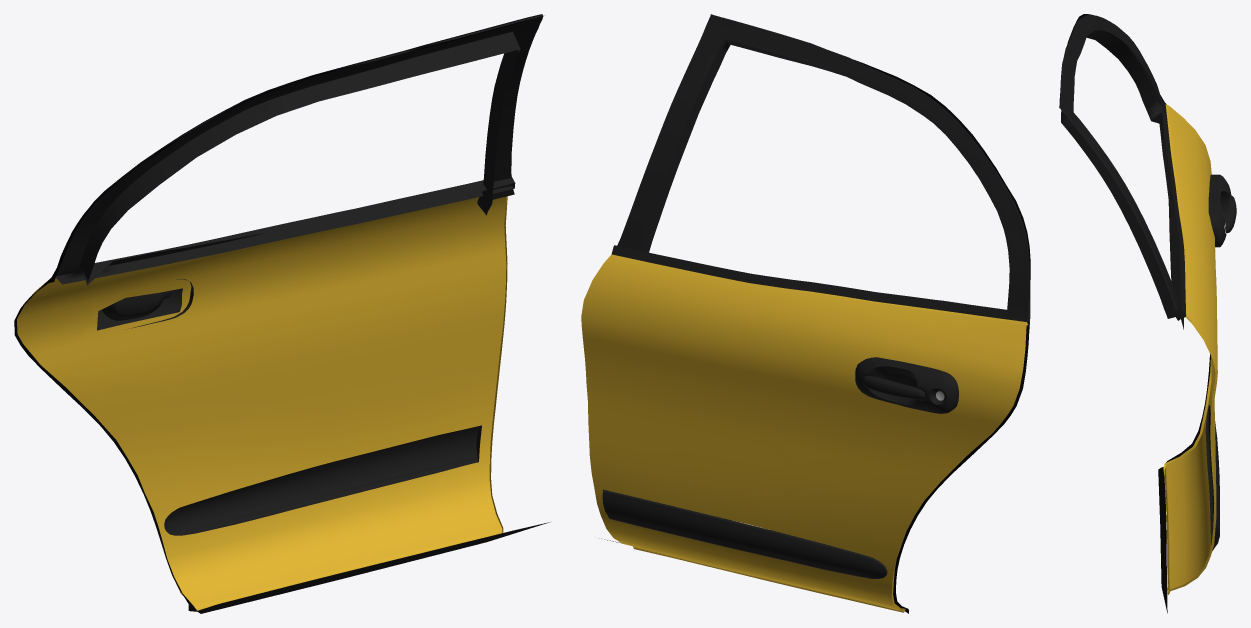
3 views of the same model, side by side, from view 1: azimuth 30°, elevation 25°; view 2: azimuth 150°, elevation 25°; view 3: azimuth 270°, elevation 25° (orthographic). The views are drawn at different scales.
Visible parts, largest first — view 1: P353_20_301B_L_DaS_P353_20_301B_L, P353_20_301B_L_P353_20_301B_L_2_D, P353_20_301B_L_P353_20_301B_L_4_D, P353_20_301B_L_DaS_P353_20_301B_L_E; view 2: P353_20_301B_L_DaS_P353_20_301B_L, P353_20_301B_L_P353_20_301B_L_2_D, P353_20_301B_L_P353_20_301B_L_4_D; view 3: P353_20_301B_L_DaS_P353_20_301B_L, P353_20_301B_L_P353_20_301B_L_2_D, P353_20_301B_L_DaS_P353_20_301B_L_E, P353_20_301B_L_P353_20_301B_L_4_D.
Part boxes in pixels (x1,y1,x2,y2): P353_20_301B_L_DaS_P353_20_301B_L: [17, 196, 506, 610]; P353_20_301B_L_P353_20_301B_L_2_D: [55, 14, 543, 535]; P353_20_301B_L_P353_20_301B_L_4_D: [14, 16, 550, 613]; P353_20_301B_L_DaS_P353_20_301B_L_E: [23, 196, 507, 608]; P353_20_301B_L_DaS_P353_20_301B_L: [581, 254, 1026, 612]; P353_20_301B_L_P353_20_301B_L_2_D: [602, 15, 1029, 579]; P353_20_301B_L_P353_20_301B_L_4_D: [601, 14, 1030, 613]; P353_20_301B_L_DaS_P353_20_301B_L: [1164, 104, 1217, 589]; P353_20_301B_L_P353_20_301B_L_2_D: [1060, 15, 1236, 550]; P353_20_301B_L_DaS_P353_20_301B_L_E: [1163, 316, 1217, 594]; P353_20_301B_L_P353_20_301B_L_4_D: [1059, 14, 1210, 613].
Bounding box in the file's own units: 113 × 119 × 40.07.
